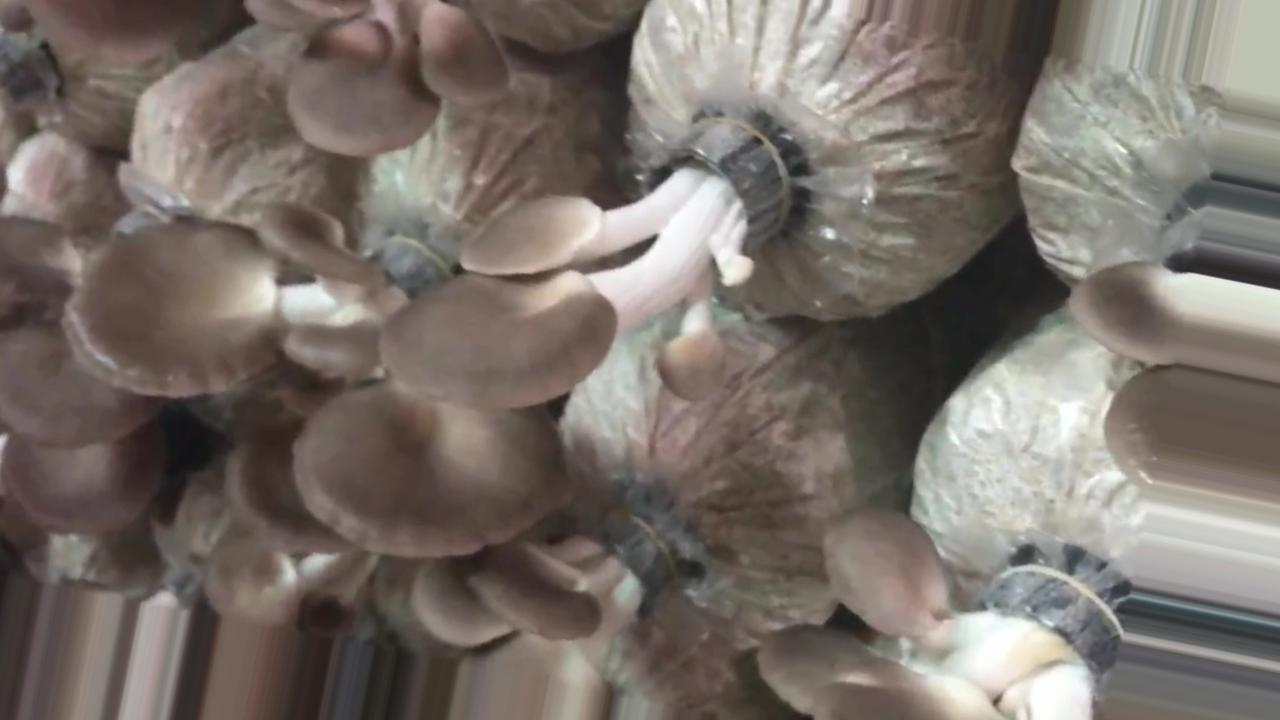nam: (375, 112, 799, 437), (63, 203, 460, 410), (756, 510, 1128, 720), (412, 499, 716, 720), (251, 1, 514, 162)
